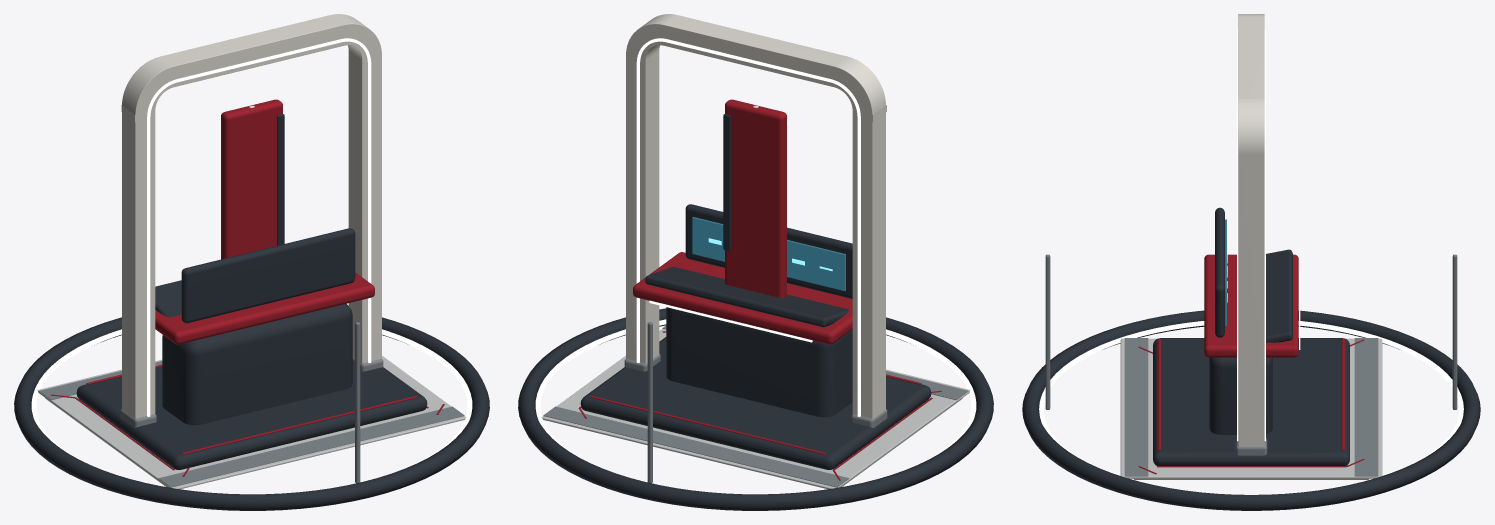
Rendered from identity_kit.glb.
3 views of the same model, side by side, from view 1: azimuth 30°, elevation 25°; view 2: azimuth 150°, elevation 25°; view 3: azimuth 270°, elevation 25° (orthographic). The views are drawn at different scales.
Visible parts, largest first — view 1: RoundedStructure, ConsoleBase, CircularLight, LowDais, Display, RedLeaf, Panel, RedRim, EdgeBand.001, IntegratedLight.001, CircularLight.001, BlackInsertBack (+4 smaller); view 2: RoundedStructure, LowDais, ConsoleBase, CircularLight, RedLeaf, Panel, RedRim, ControlSurface, EdgeBand, IntegratedLight, Screen, Display (+5 smaller); view 3: LowDais, CircularLight, RoundedStructure, Panel, RedRim, EdgeBand.001, EdgeBand, ConsoleBase, ControlSurface, CircularLight.001, Display, CeilingMount (+3 smaller).
Part boxes in pixels (<box>): RoundedStructure: <box>121,14,381,419</box>; ConsoleBase: <box>162,303,352,425</box>; CircularLight: <box>14,317,489,510</box>; LowDais: <box>76,365,427,469</box>; Display: <box>181,228,355,323</box>; RedLeaf: <box>221,99,282,259</box>; Panel: <box>37,356,466,489</box>; RedRim: <box>155,272,374,344</box>; EdgeBand.001: <box>158,406,464,487</box>; IntegratedLight.001: <box>147,38,371,416</box>; CircularLight.001: <box>31,329,472,463</box>; BlackInsertBack: <box>277,114,284,245</box>; RoundedStructure: <box>626,14,886,419</box>; LowDais: <box>580,337,931,469</box>; ConsoleBase: <box>666,307,852,417</box>; CircularLight: <box>518,308,993,510</box>; RedLeaf: <box>725,99,786,297</box>; Panel: <box>541,328,970,489</box>; RedRim: <box>633,252,852,344</box>; ControlSurface: <box>645,267,849,327</box>; EdgeBand: <box>543,406,849,487</box>; IntegratedLight: <box>636,38,860,416</box>; Screen: <box>692,217,845,291</box>; Display: <box>685,204,852,298</box>; LowDais: <box>1153,338,1349,465</box>; CircularLight: <box>1022,310,1480,510</box>; RoundedStructure: <box>1238,14,1264,446</box>; Panel: <box>1120,338,1382,478</box>; RedRim: <box>1204,254,1298,357</box>; EdgeBand.001: <box>1124,338,1148,476</box>; EdgeBand: <box>1354,338,1378,476</box>; ConsoleBase: <box>1209,357,1272,434</box>; ControlSurface: <box>1266,249,1292,342</box>; CircularLight.001: <box>1039,321,1463,463</box>; Display: <box>1215,207,1224,337</box>; CeilingMount: <box>1452,254,1457,409</box>.
Size of the model in its own units: 3.49 by 3.02 by 3.49.
